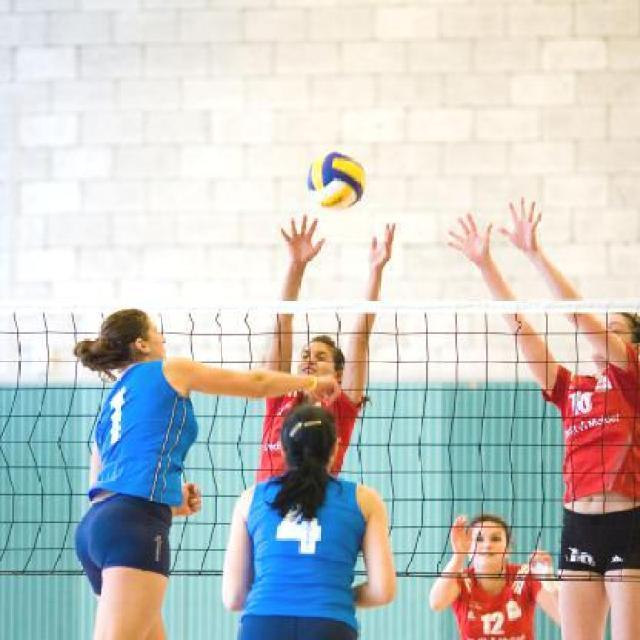volleyball: (308, 147, 367, 210)
